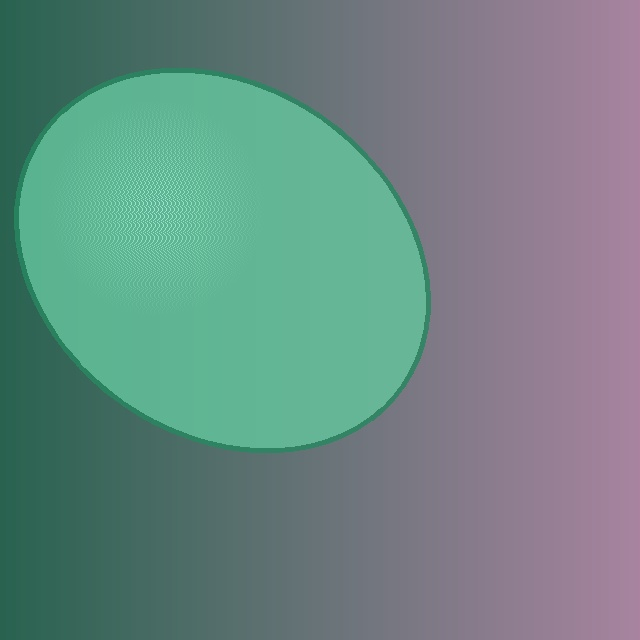lens: (16, 70, 428, 450)
